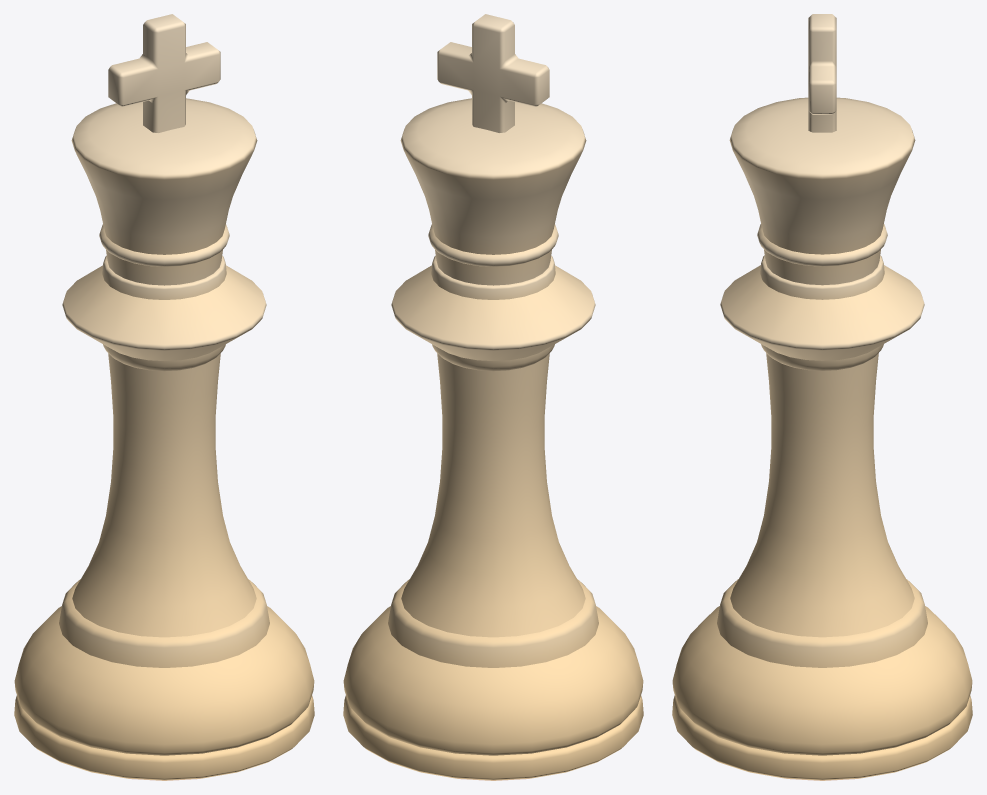
Rendered from Chess_White_King_01.glb.
3 renders of one model, left to right at view 1: azimuth 30°, elevation 25°; view 2: azimuth 150°, elevation 25°; view 3: azimuth 270°, elevation 25°, orthographic.
Visible parts, largest first — view 1: Chess_White_King_01; view 2: Chess_White_King_01; view 3: Chess_White_King_01.
Part boxes in pixels (left/top/right/bottom): Chess_White_King_01: left=14, top=14, right=314, bottom=780; Chess_White_King_01: left=343, top=14, right=643, bottom=780; Chess_White_King_01: left=672, top=14, right=972, bottom=780.
Bounding box in the file's own units: 0.0401 × 0.1036 × 0.0401.
2 materials, 2 textured.
